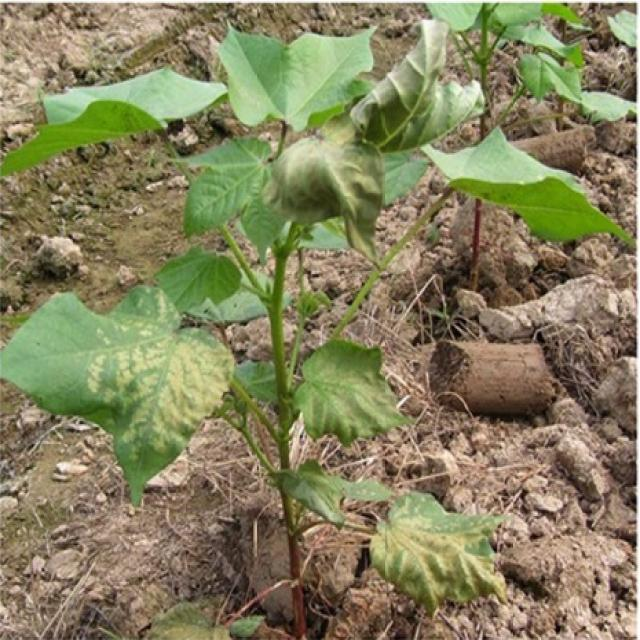Fusarium Wilt: (9, 4, 561, 640)
